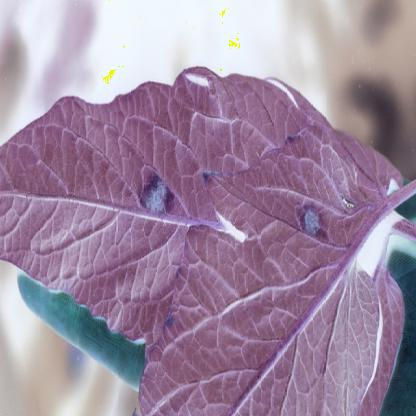tomato mold leaf: (1, 65, 382, 353), (119, 126, 408, 415)
